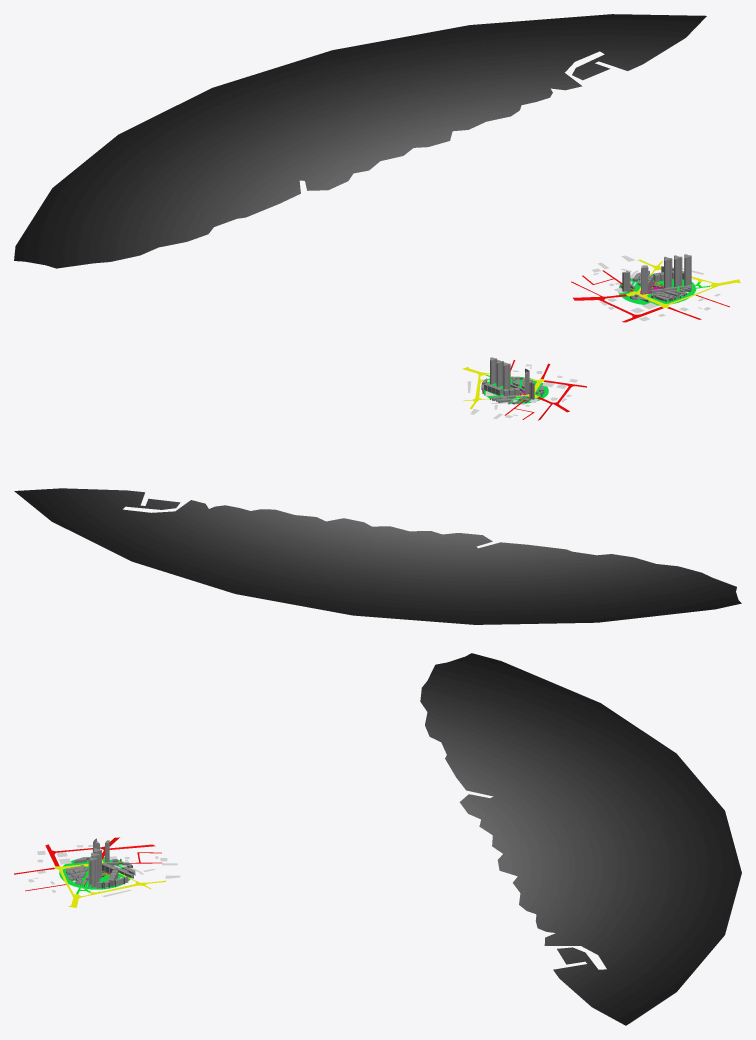
File: Enviroment_12.fbx
The picture shows the model from 3 angles, top to bottom: view 1: azimuth 30°, elevation 25°; view 2: azimuth 150°, elevation 25°; view 3: azimuth 270°, elevation 25°; orthographic projection. The views are drawn at different scales.
Parts seen in each view (by area): view 1: Water, City, Road_3, circle, Road_2; view 2: Water, City, Road_3; view 3: Water, City, Road_3.
Boxes of the visible parts, left/top/right/bottom form: Water: left=14, top=14, right=706, bottom=268; City: left=619, top=266, right=692, bottom=302; Road_3: left=571, top=270, right=729, bottom=322; circle: left=618, top=274, right=695, bottom=305; Road_2: left=626, top=259, right=740, bottom=307; Water: left=14, top=488, right=741, bottom=624; City: left=481, top=376, right=544, bottom=404; Road_3: left=504, top=360, right=586, bottom=420; Water: left=420, top=653, right=741, bottom=1025; City: left=66, top=857, right=135, bottom=888; Road_3: left=14, top=837, right=161, bottom=891.
Size of the model in its own units: 4992228 by 192524 by 4119490.
